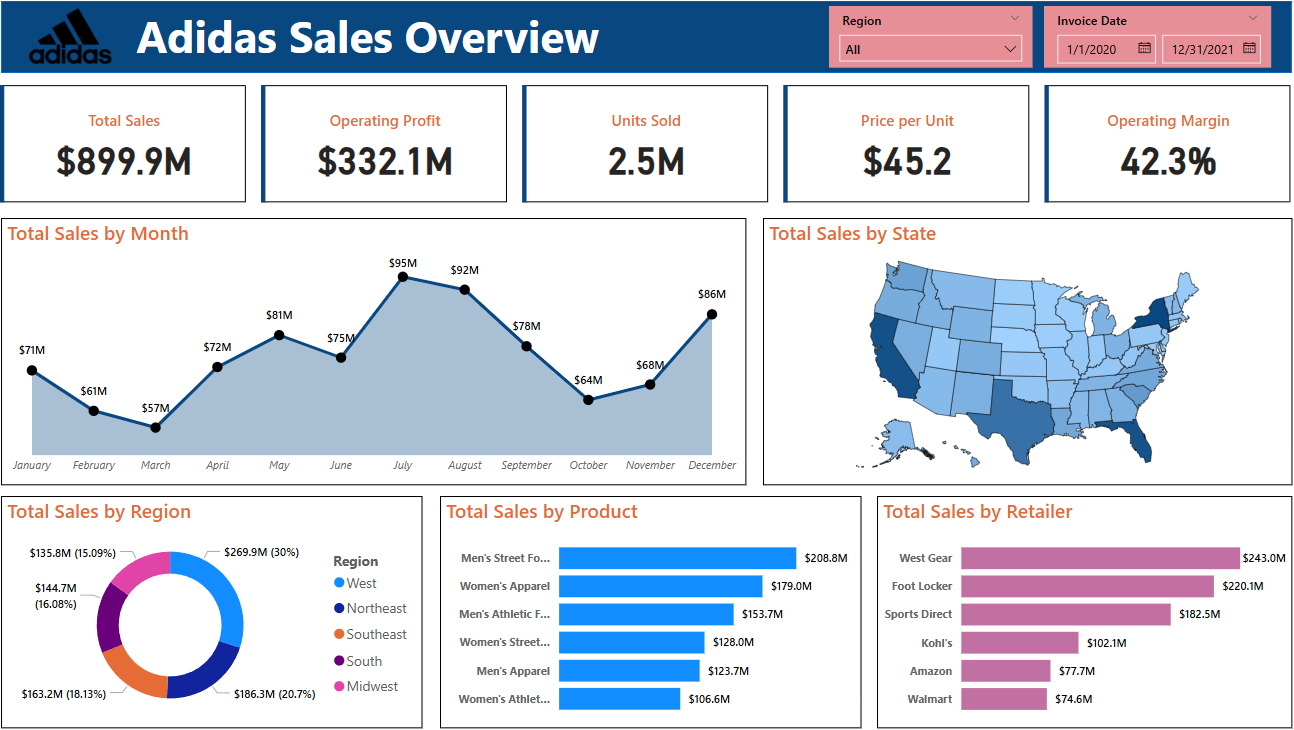

Layout of this report page (visuals, bound fields, positions):
{"tool":"powerbi","page":{"name":"Page 1","canvas":[1280,720],"ordinal":0},"visuals":[{"type":"shape","box":[11.7,0,1255.7,70],"z":0},{"type":"textbox","box":[138.1,0,550.5,70],"z":1000},{"type":"cardVisual","fields":{"Data":["Sum(Data Sales Adidas.Total Sales)","Sum(Data Sales Adidas.Operating Profit)","Sum(Data Sales Adidas.Units Sold)","Avg(Data Sales Adidas.Price per Unit)","Avg(Data Sales Adidas.Operating Margin)"]},"box":[5.8,76.8,1268.3,124.5],"z":2000},{"type":"areaChart","title":"Total Sales by Month","fields":{"Category":["Data Sales Adidas.Invoice Date.Variation.Date Hierarchy.Month"],"Y":["Sum(Data Sales Adidas.Total Sales)"]},"box":[11.7,211.1,724.6,259.7],"z":3000},{"type":"shapeMap","title":"Total Sales by State","fields":{"Category":["Data Sales Adidas.State"],"Value":["Sum(Data Sales Adidas.Total Sales)"]},"box":[752.8,211.1,514.5,259.7],"z":4000},{"type":"donutChart","title":"Total Sales by Region","fields":{"Category":["Data Sales Adidas.Region"],"Y":["Sum(Data Sales Adidas.Total Sales)"]},"box":[11.7,481.5,410,226],"z":5000},{"type":"barChart","title":"Total Sales by Product","fields":{"Category":["Data Sales Adidas.Product"],"Y":["Sum(Data Sales Adidas.Total Sales)"]},"box":[438.7,481.5,410.5,225.7],"z":6000},{"type":"barChart","title":"Total Sales by Retailer","fields":{"Category":["Data Sales Adidas.Retailer"],"Y":["Sum(Data Sales Adidas.Total Sales)"]},"box":[863.7,481.5,403.6,225.7],"z":7000},{"type":"slicer","fields":{"Values":["Data Sales Adidas.Region"]},"box":[817,4.9,198.4,60.3],"z":8000},{"type":"slicer","fields":{"Values":["Data Sales Adidas.Invoice Date"]},"box":[1026.1,4.9,220.8,60.3],"z":9000},{"type":"image","box":[32.1,1.9,93.4,64.2],"z":10000}]}

Visuals, with their boxes in screenshot pixels (x1, y1, x2, y2), scaled from the page's 1280x720 canvas onto the 1294x730 screenshot:
shape: crop(12, 0, 1281, 71)
textbox: crop(140, 0, 696, 71)
cardVisual - Sum(Data Sales Adidas.Total Sales) x Sum(Data Sales Adidas.Operating Profit): crop(6, 78, 1288, 204)
"Total Sales by Month" areaChart: crop(12, 214, 744, 477)
"Total Sales by State" shapeMap: crop(761, 214, 1281, 477)
"Total Sales by Region" donutChart: crop(12, 488, 426, 717)
"Total Sales by Product" barChart: crop(443, 488, 858, 717)
"Total Sales by Retailer" barChart: crop(873, 488, 1281, 717)
slicer - Data Sales Adidas.Region: crop(826, 5, 1027, 66)
slicer - Data Sales Adidas.Invoice Date: crop(1037, 5, 1261, 66)
image: crop(32, 2, 127, 67)
